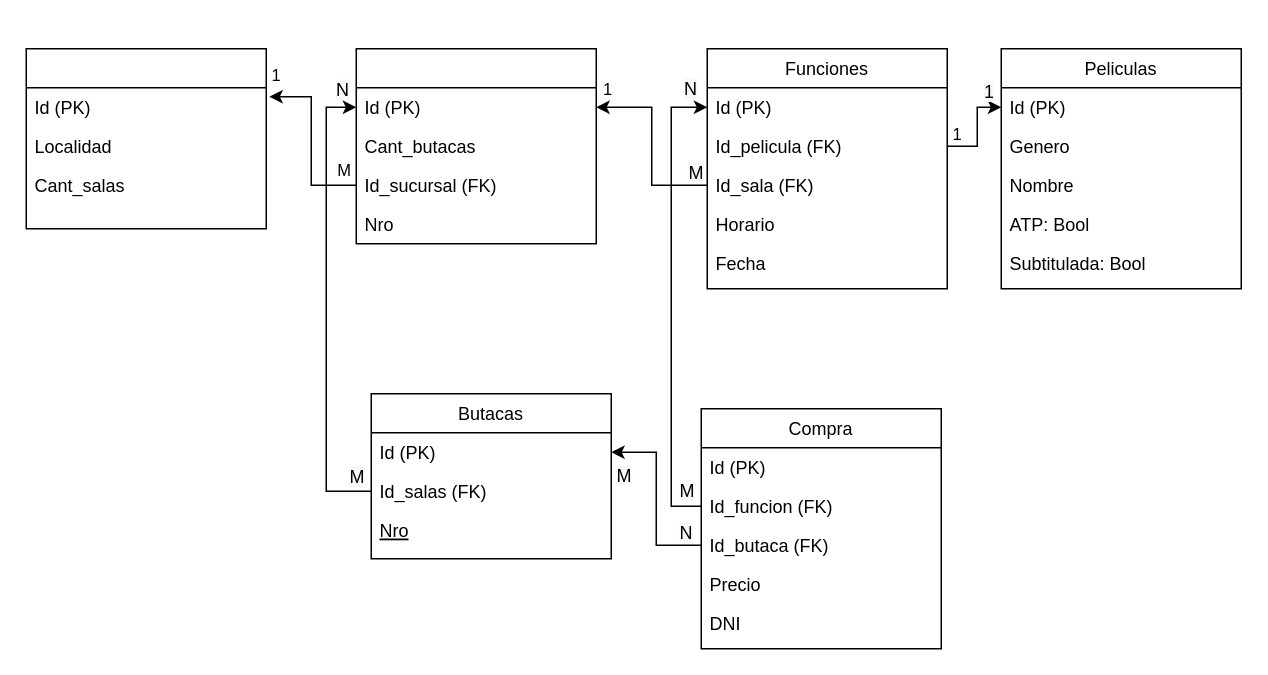
This 1268x675 diagram has some shape labels left out. Each missing label, with the box of its shape:
Salas: (355, 47, 596, 244)
Sucursal: (25, 47, 266, 229)
